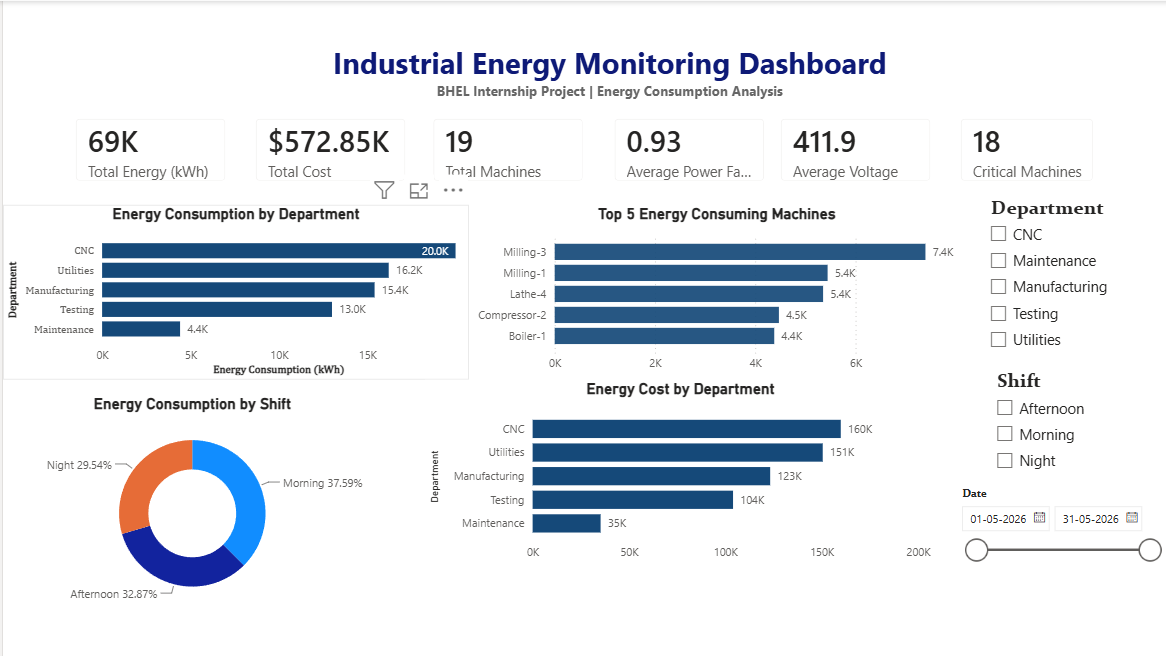

This screenshot's page, from the dashboard's own definition file:
{"tool":"powerbi","page":{"name":"Executive Analysis","canvas":[1280,720],"ordinal":0},"visuals":[{"type":"textbox","box":[240.1,41.2,852.1,87.8],"z":0},{"type":"cardVisual","fields":{"Data":["EnergyData.Total Energy"]},"box":[63.4,112.2,198.5,102.6],"z":1000},{"type":"cardVisual","fields":{"Data":["EnergyData.Total Cost"]},"box":[261.3,112,198.5,102.6],"z":2000},{"type":"cardVisual","fields":{"Data":["EnergyData.Total Machines"]},"box":[455.7,112,198.5,102.6],"z":3000},{"type":"cardVisual","fields":{"Data":["EnergyData.Average Power Factor"]},"box":[654.2,112,198.5,102.6],"z":4000},{"type":"cardVisual","fields":{"Data":["EnergyData.Average Voltage"]},"box":[836.7,112,198.5,102.6],"z":5000},{"type":"cardVisual","fields":{"Data":["EnergyData.Critical Machines"]},"box":[1035.1,111.8,179.6,102.6],"z":6000},{"type":"clusteredBarChart","title":"Energy Consumption by Department","fields":{"Category":["EnergyData.Department"],"Y":["Sum(EnergyData.Energy_kWh)"]},"box":[0,224,512,192],"z":7000},{"type":"clusteredBarChart","title":"Top 5 Energy Consuming Machines","fields":{"Category":["EnergyData.Machine_Name"],"Y":["Sum(EnergyData.Energy_kWh)"]},"box":[512,224,544,192],"z":8000},{"type":"donutChart","title":"Energy Consumption by Shift","fields":{"Category":["EnergyData.Shift"],"Y":["Sum(EnergyData.Energy_kWh)"]},"box":[0,432,416,240],"z":9000},{"type":"clusteredBarChart","title":"Energy Cost by Department","fields":{"Category":["EnergyData.Department"],"Y":["Sum(EnergyData.Energy_Cost)"]},"box":[464,416,560,208],"z":10000},{"type":"slicer","fields":{"Values":["EnergyData.Department"]},"box":[1072,208,160,192],"z":11000},{"type":"slicer","fields":{"Values":["EnergyData.Shift"]},"box":[1078.3,400,128,128],"z":12000},{"type":"slicer","fields":{"Values":["EnergyData.Date"]},"box":[1040,528,240,128],"z":13000}]}

Visuals, with their boxes in screenshot pixels (x1, y1, x2, y2), scaled from the page's 1280x720 canvas onto the 1166x656 screenshot:
textbox: 219/38/995/118
cardVisual - EnergyData.Total Energy: 58/102/239/196
cardVisual - EnergyData.Total Cost: 238/102/419/196
cardVisual - EnergyData.Total Machines: 415/102/596/196
cardVisual - EnergyData.Average Power Factor: 596/102/777/196
cardVisual - EnergyData.Average Voltage: 762/102/943/196
cardVisual - EnergyData.Critical Machines: 943/102/1107/195
"Energy Consumption by Department" clusteredBarChart: 0/204/466/379
"Top 5 Energy Consuming Machines" clusteredBarChart: 466/204/962/379
"Energy Consumption by Shift" donutChart: 0/394/379/612
"Energy Cost by Department" clusteredBarChart: 423/379/933/569
slicer - EnergyData.Department: 977/190/1122/364
slicer - EnergyData.Shift: 982/364/1099/481
slicer - EnergyData.Date: 947/481/1165/598
